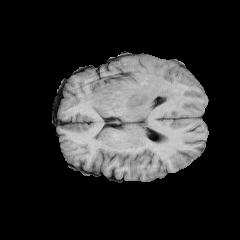glioma: (89, 78, 181, 111)
